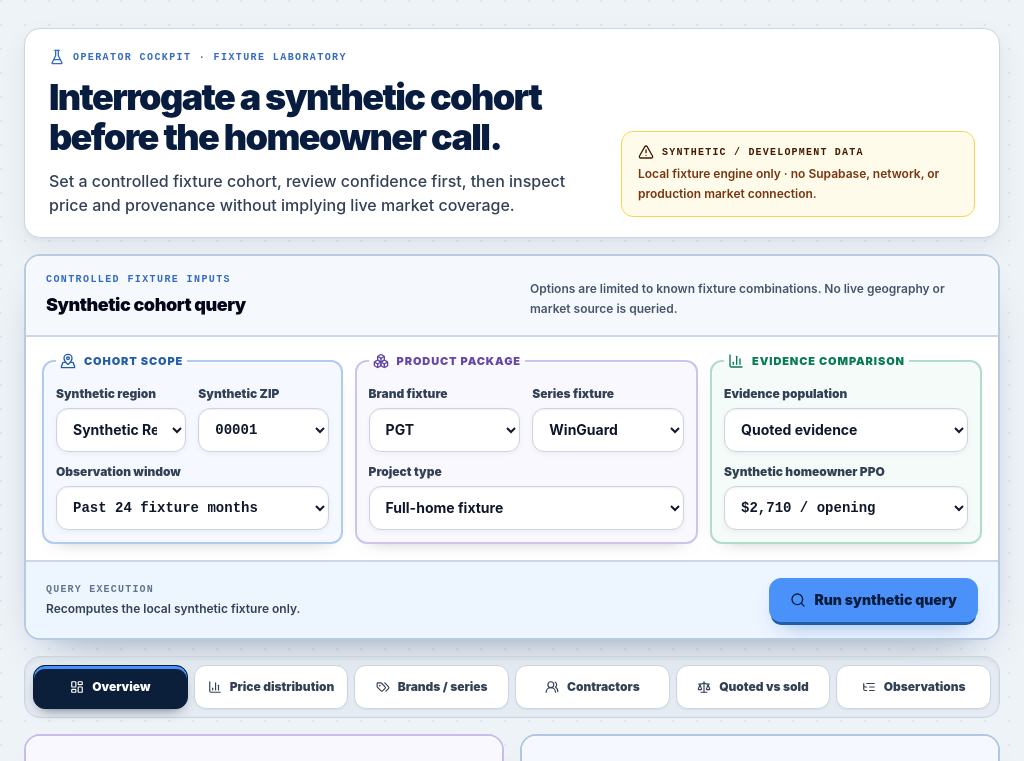
Test case: OracleDashboardSurface › keeps synthetic geography and product choices internally consistent
Select "Synthetic Region B" in the dropdown labelled "Synthetic region" at (121, 430), box [56, 408, 186, 452]
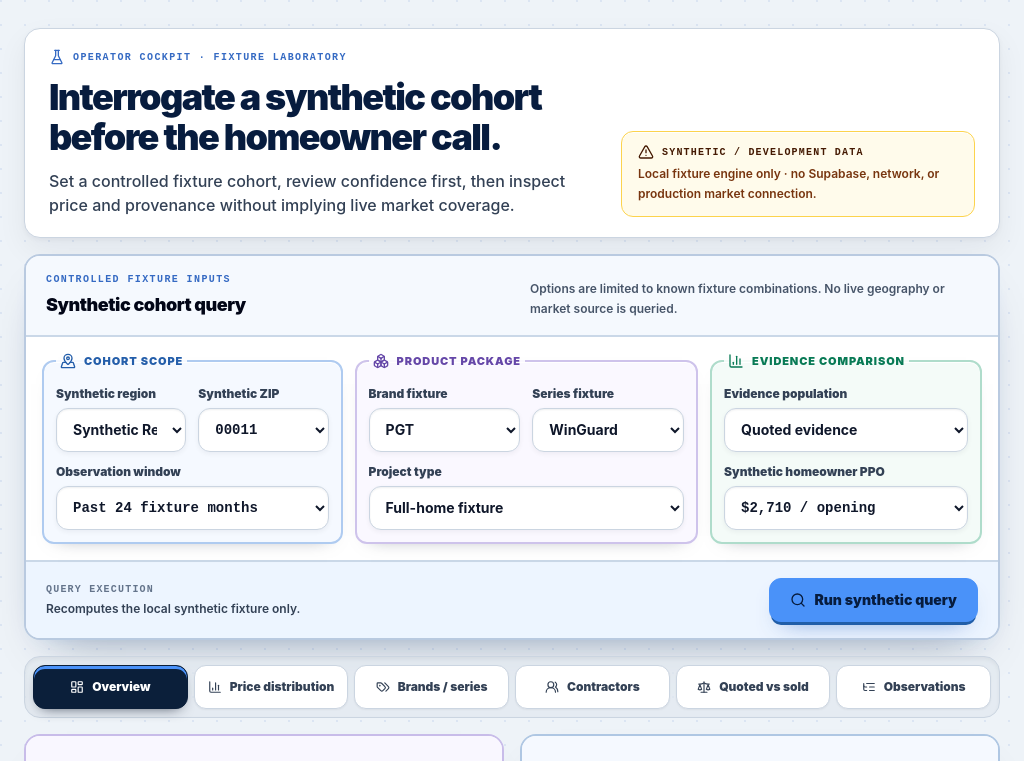
Expected: the dropdown labelled "Synthetic ZIP" shows "00011", [198, 408, 329, 452]
Select "ES" in the dropdown labelled "Brand fixture" at (444, 430), box [369, 408, 520, 452]
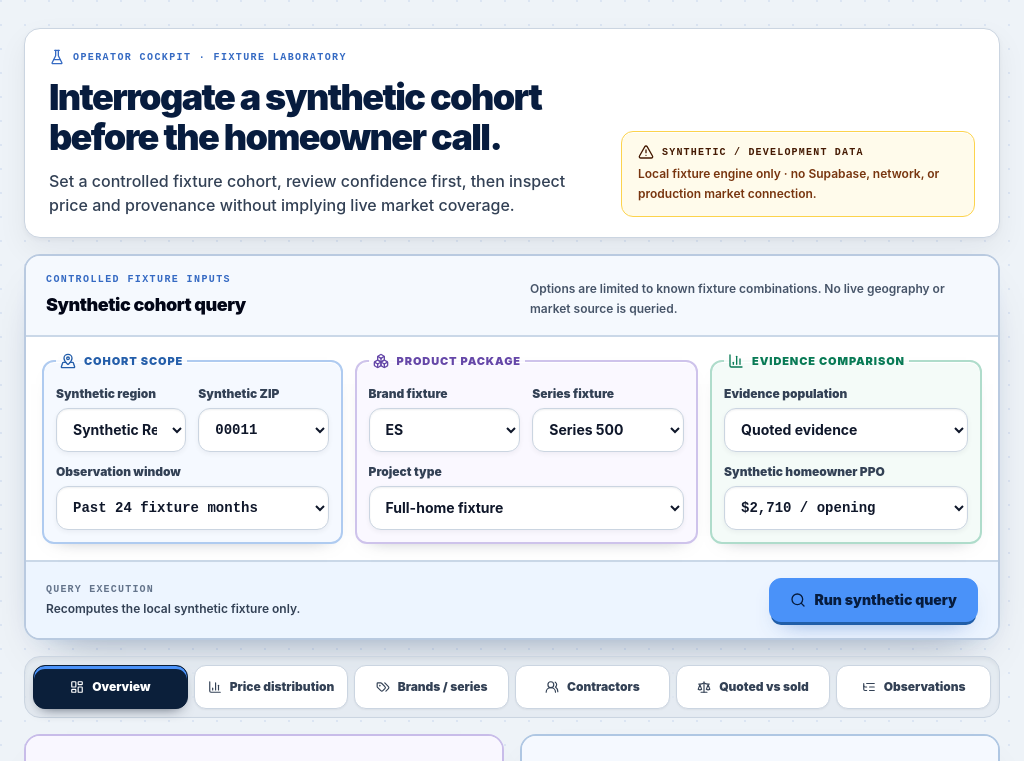
Expected: the dropdown labelled "Series fixture" shows "Series 500", [532, 408, 684, 452]
